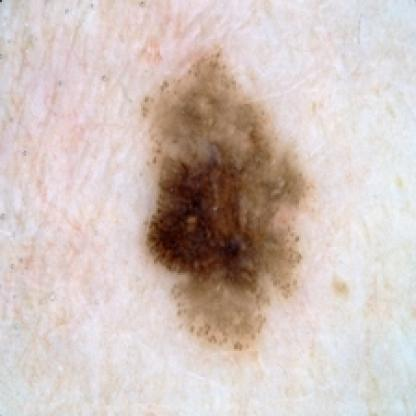Skin_Cancer-Malignant: (138, 47, 313, 357)
